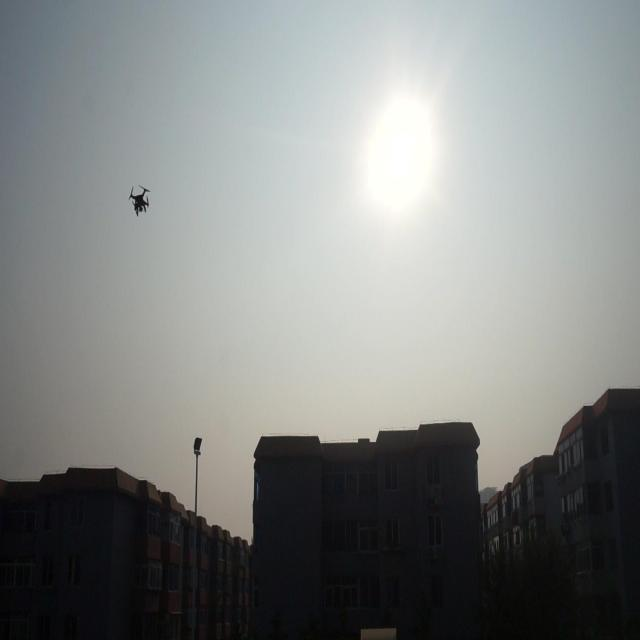UAV: (128, 185, 150, 217)
